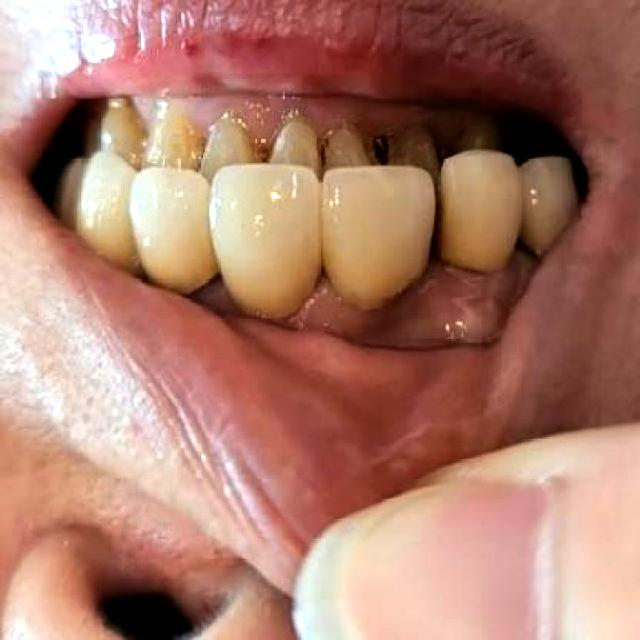Plaque: (282, 260, 530, 341)
